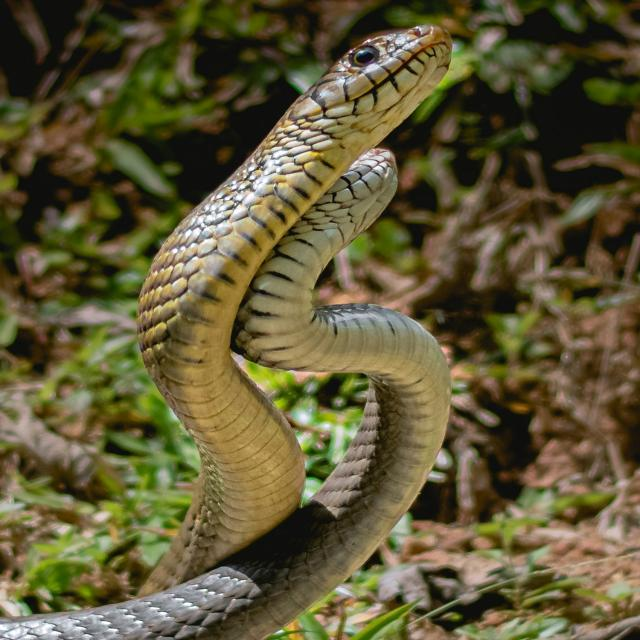Snake: (0, 21, 457, 640)
